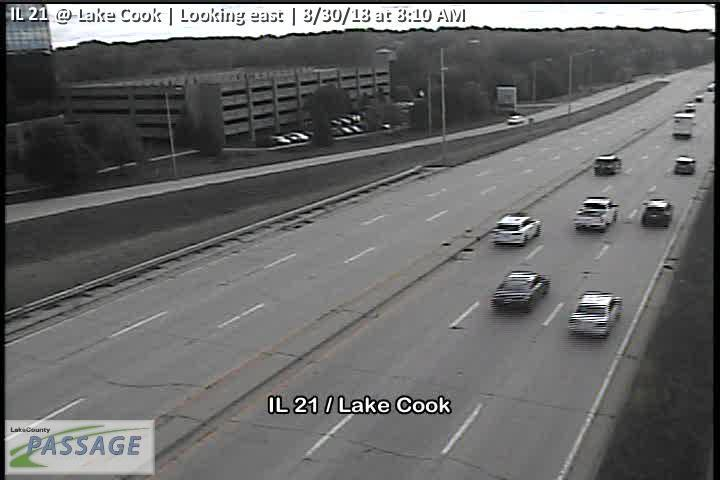SUV: (490, 212, 542, 246), (641, 198, 673, 226), (593, 154, 622, 175)
Sedan: (567, 290, 623, 338), (491, 269, 550, 312), (675, 156, 696, 174)
Truck: (573, 196, 620, 234), (671, 109, 696, 137)
